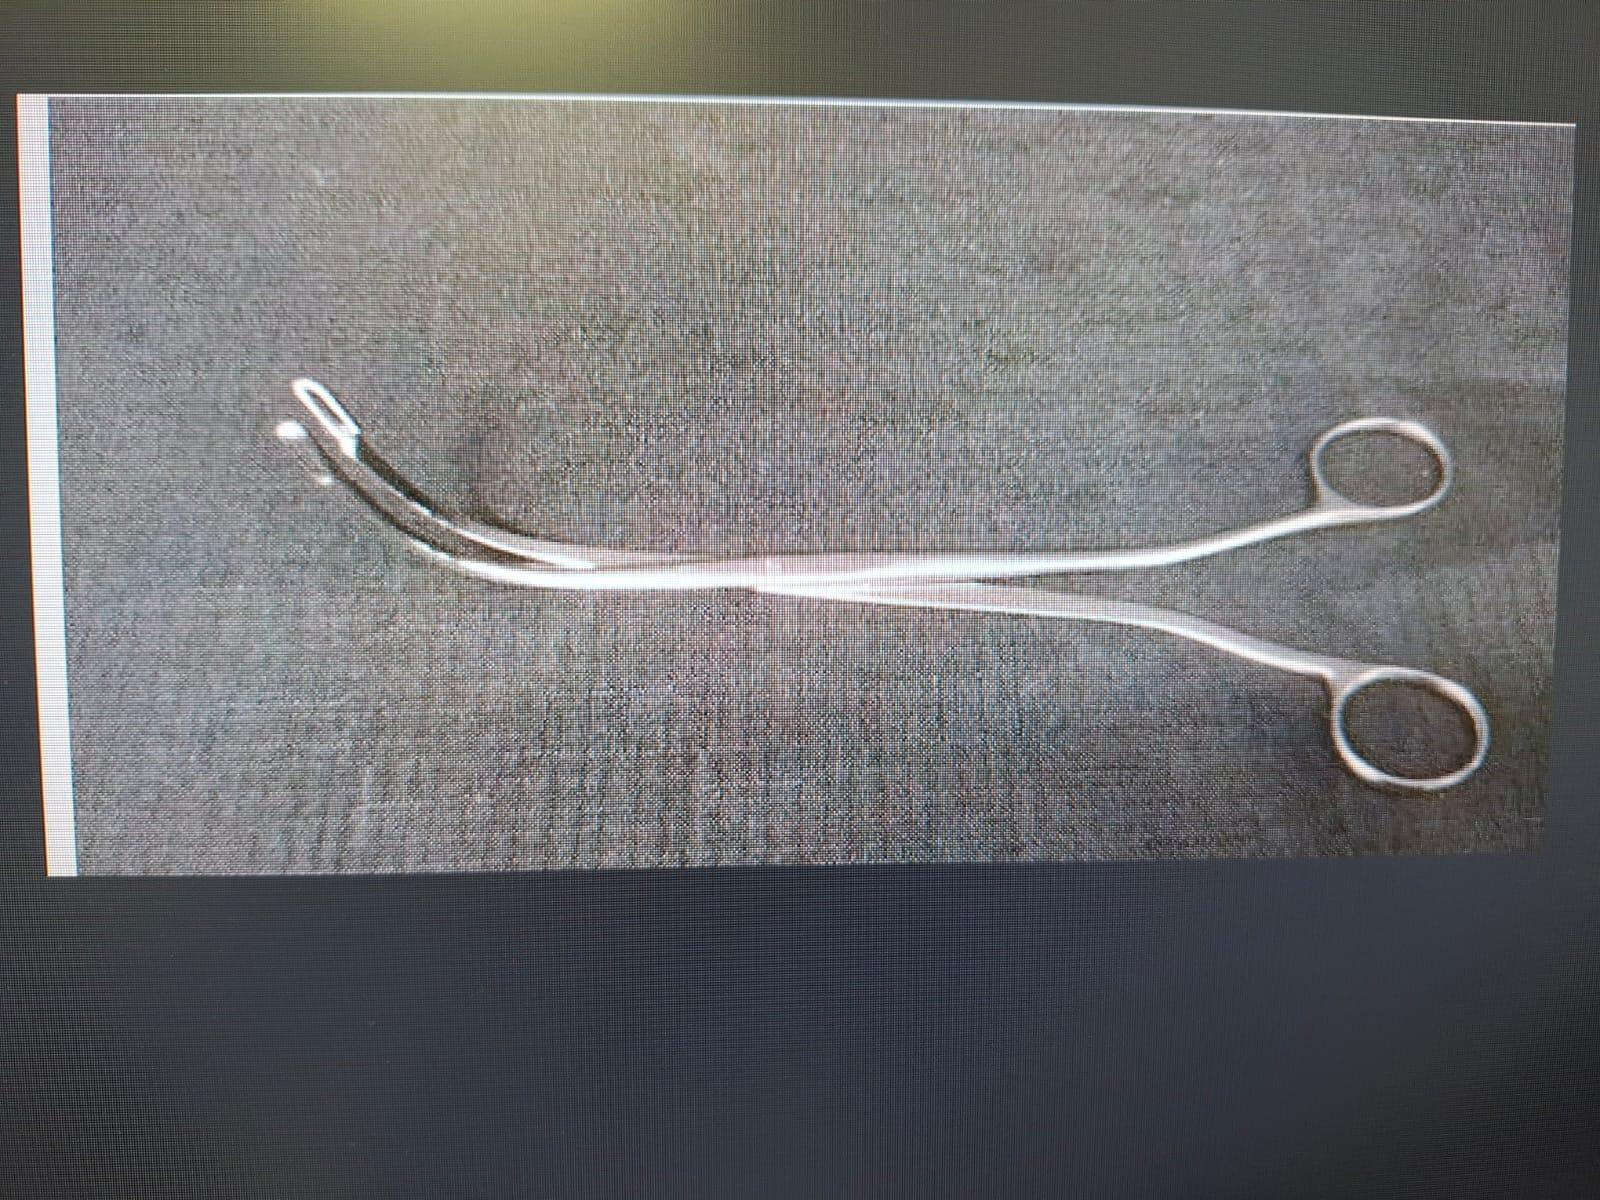Randall Forceps: (260, 334, 1504, 802)
